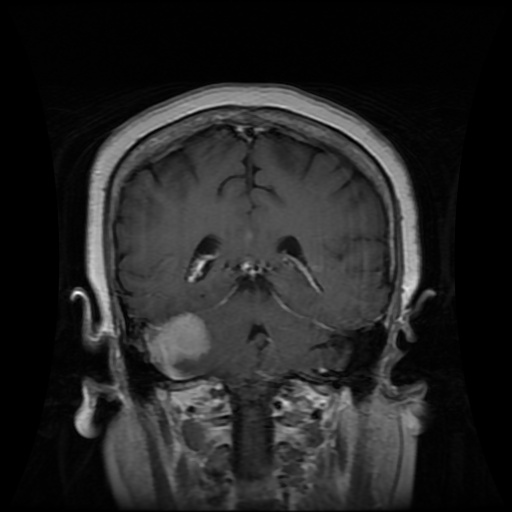meningioma: (145, 310, 210, 379)
